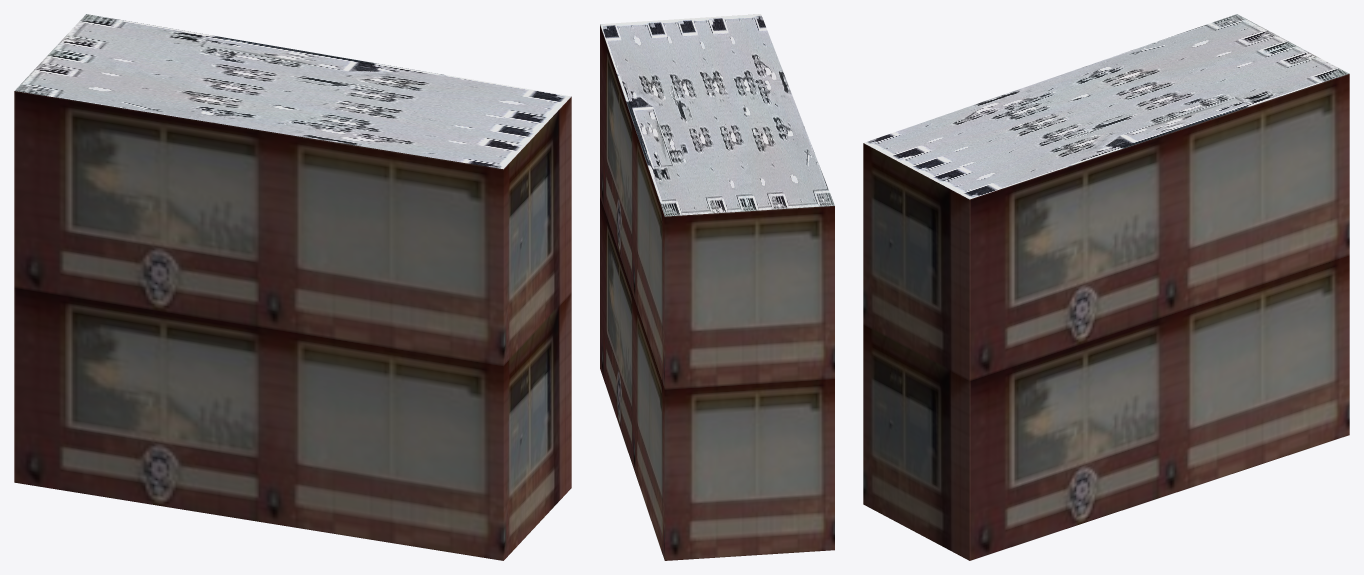
Rendered from ResTex__5279.fbx.
3 views of the same model, side by side, from view 1: azimuth 30°, elevation 25°; view 2: azimuth 150°, elevation 25°; view 3: azimuth 270°, elevation 25° (orthographic). The views are drawn at different scales.
Parts seen in each view (by area): view 1: CityEngineMaterial_13_m, CityEngineMaterial_8_m; view 2: CityEngineMaterial_13_m, CityEngineMaterial_8_m; view 3: CityEngineMaterial_13_m, CityEngineMaterial_8_m.
Part boxes in pixels (x1,y1,x2,y2): CityEngineMaterial_13_m: (14, 91, 571, 560); CityEngineMaterial_8_m: (15, 14, 571, 169); CityEngineMaterial_13_m: (600, 25, 834, 560); CityEngineMaterial_8_m: (600, 14, 834, 216); CityEngineMaterial_13_m: (863, 74, 1349, 560); CityEngineMaterial_8_m: (864, 14, 1349, 199).
Size of the model in its own units: 6.61 by 6 by 7.32.
2 materials, 2 textured.
